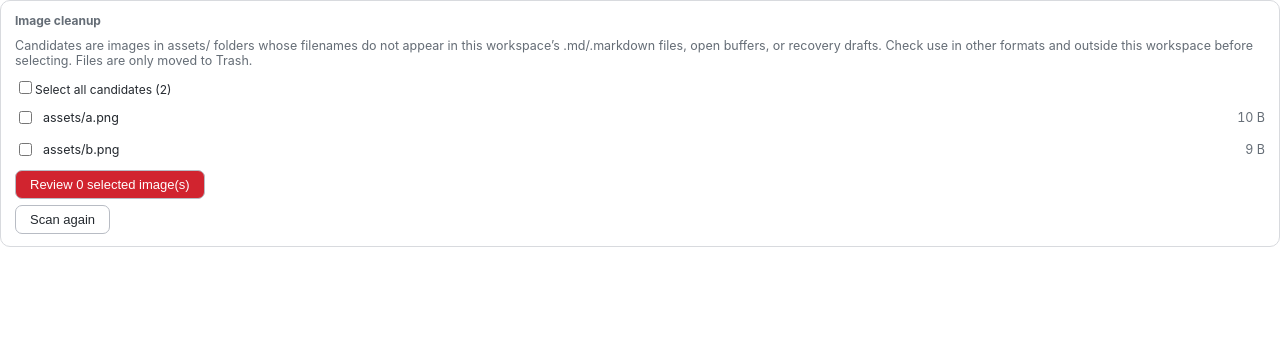
이미지 정리 검토 › 이동 실패 항목을 숨기지 않고 목록과 결과에 남긴다
Click the checkbox labelled "Select all candidates (2)". click: click(26, 88)
box: [19, 81, 32, 94]
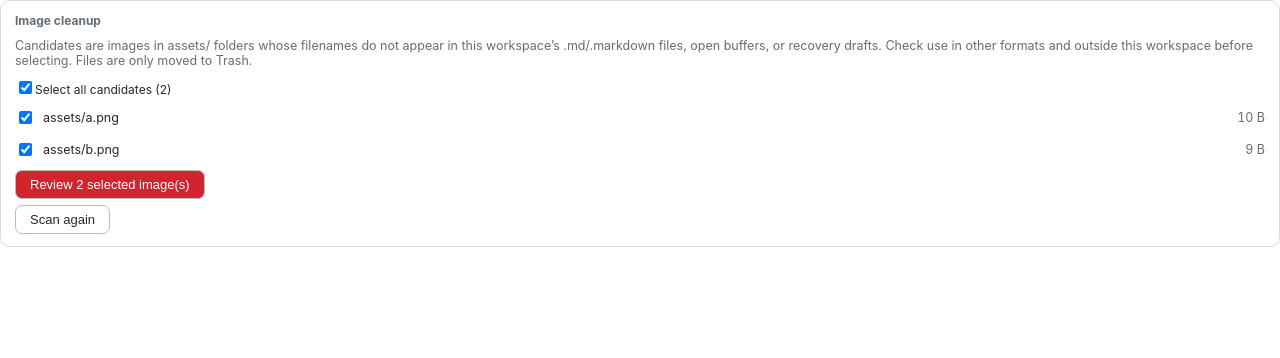
Click the button with class "btn-danger". click: click(110, 184)
box: [15, 170, 205, 199]
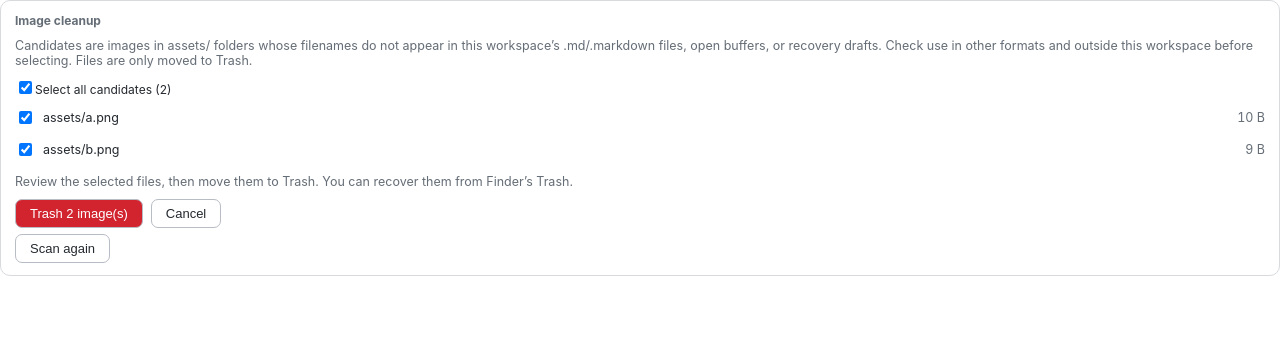
Click the button with class "btn-danger". click: click(79, 214)
box: [15, 199, 143, 228]
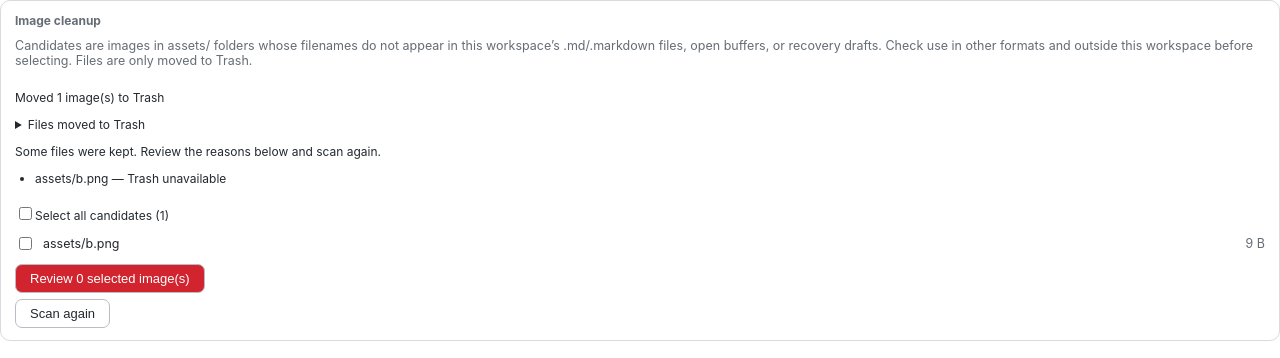
expect the list with class "review-orphans" shows "b.png": met, box [43, 236, 120, 251]
expect the text "Trash unavailable" is shown: met, box [127, 171, 226, 186]
expect the button with class "btn-danger" is disabled: met, box [15, 264, 205, 293]
